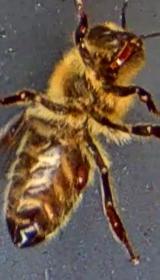varroa_mite: (75, 160, 98, 196)
